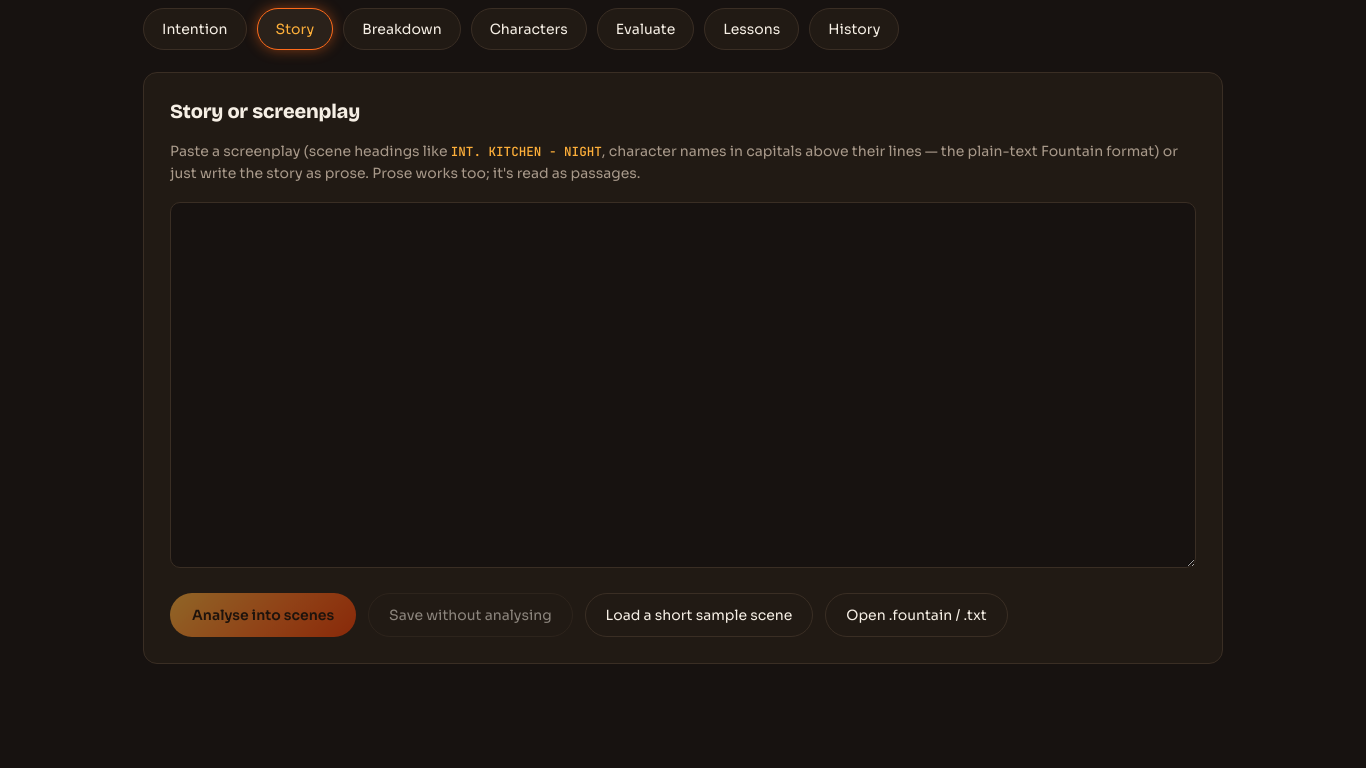
it: film workspace journey › records a lesson and shows it on the matching scene
This screenshot has width=1366, height=768.
Earlier steps of the test are not shown.
(page scrolled)
Click the button "Load a short sample scene": (699, 615) [585, 593, 813, 637]
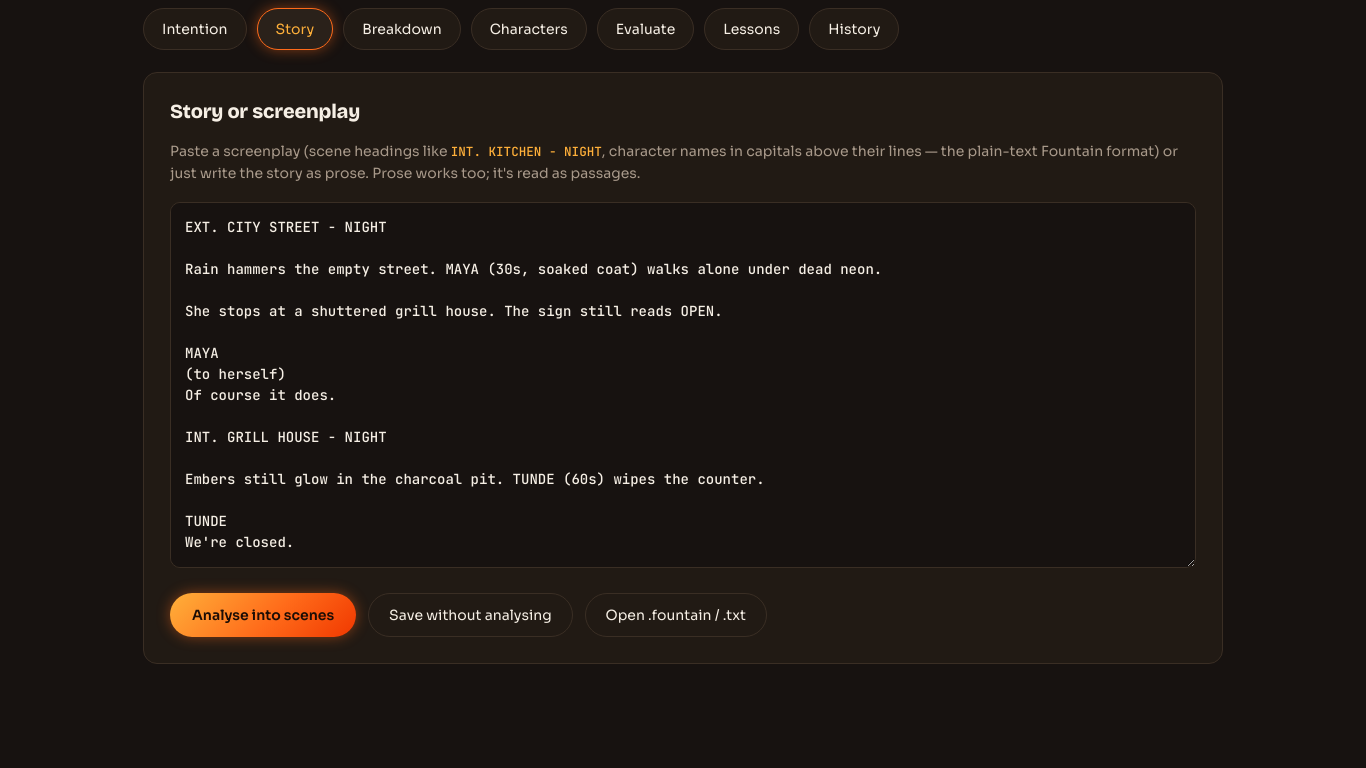
Click the button "Analyse into scenes": (263, 615) [170, 593, 356, 637]
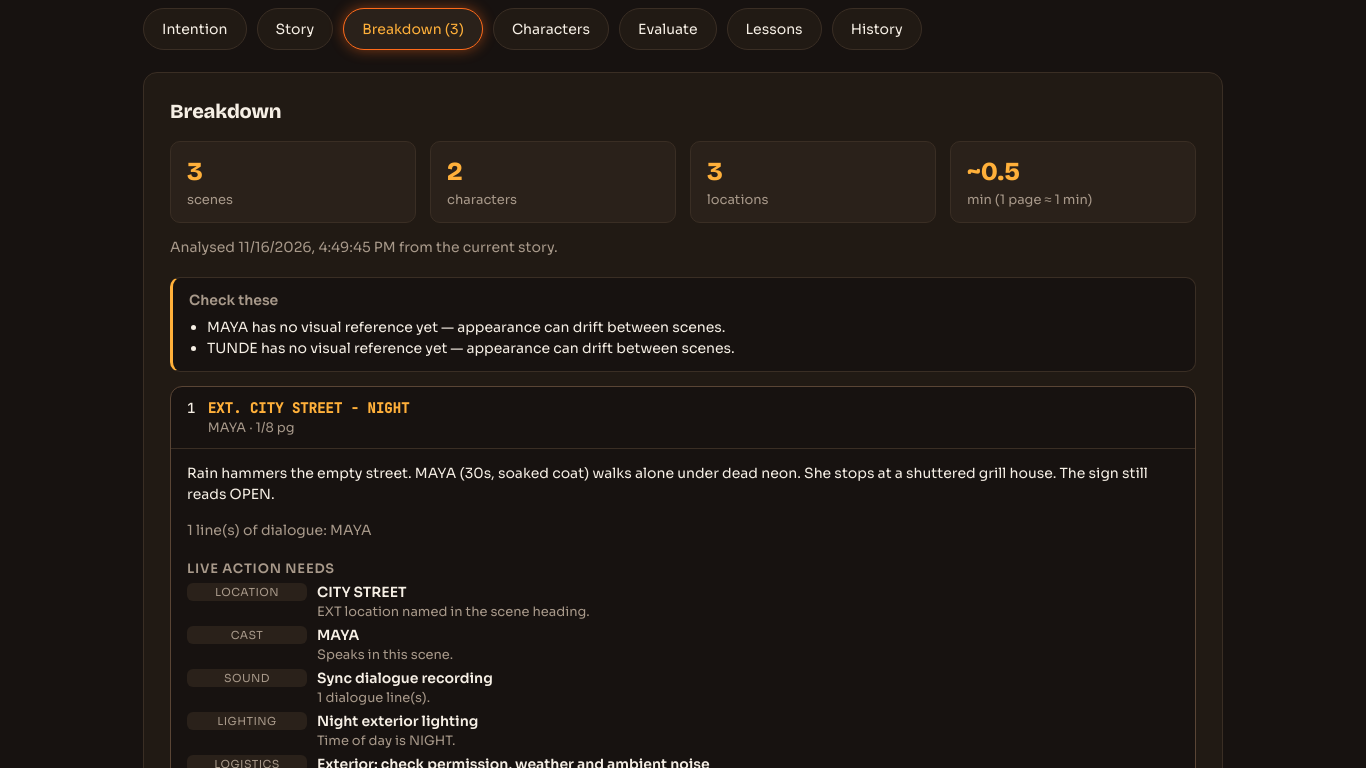
Click the tab "Lessons": (774, 29) [727, 8, 822, 50]
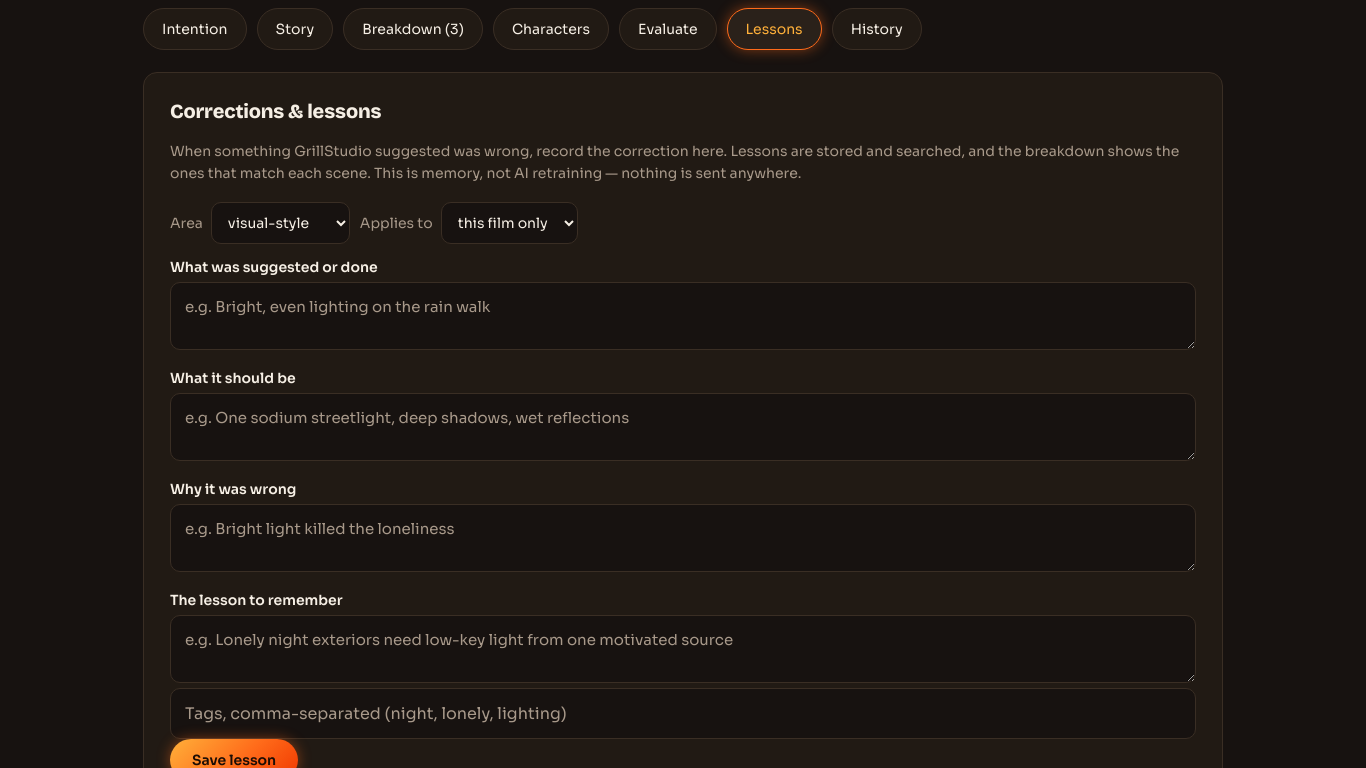
In the text box labelled "What it should be": (683, 427) [170, 393, 1196, 461], type "Single sodium streetlight, deep shadow"
Replace the text in the text box labelled "The lesson to remember" with "Lonely night street scenes need low-key light": (683, 649) [170, 615, 1196, 683]
In the field labelled "Tags": (683, 714) [170, 688, 1196, 739], type "night, street"
(page scrolled)
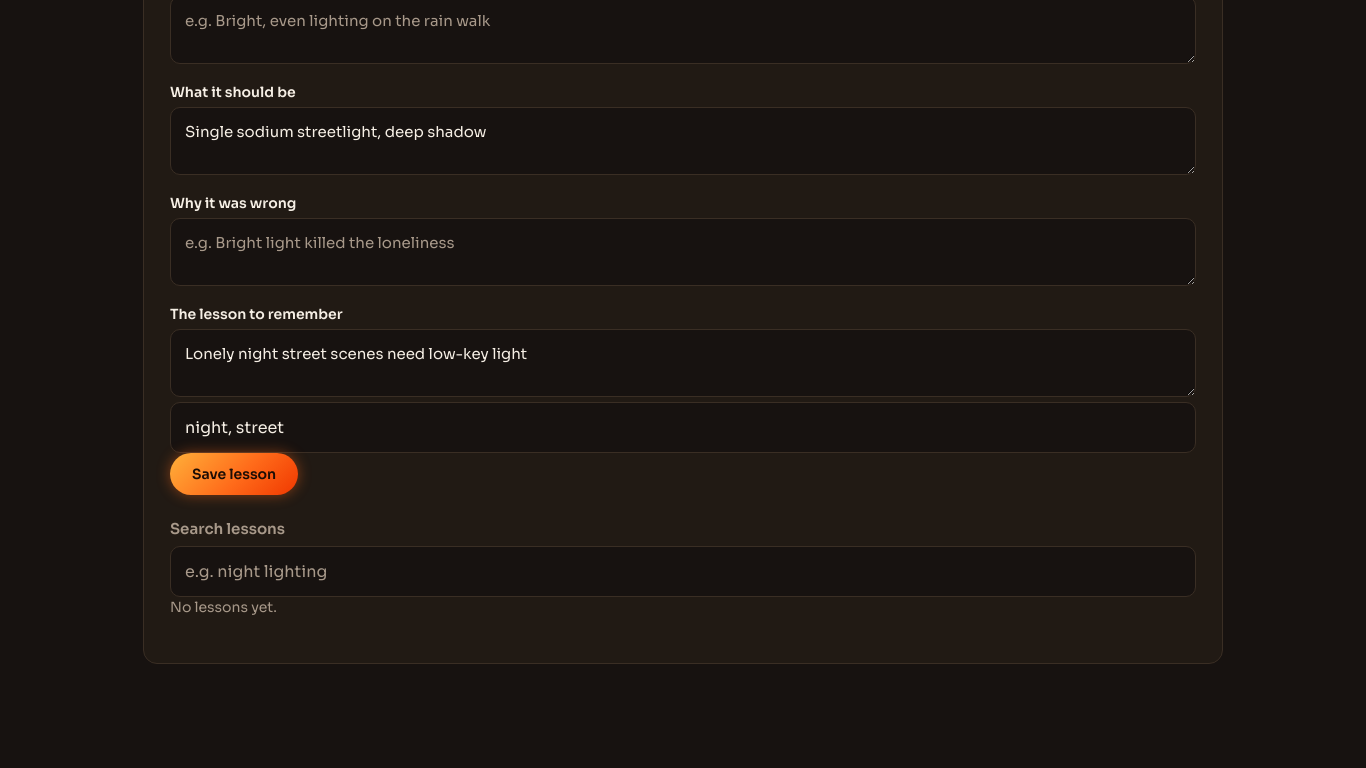
Click the button "Save lesson": (234, 474) [170, 453, 298, 495]
(page scrolled)
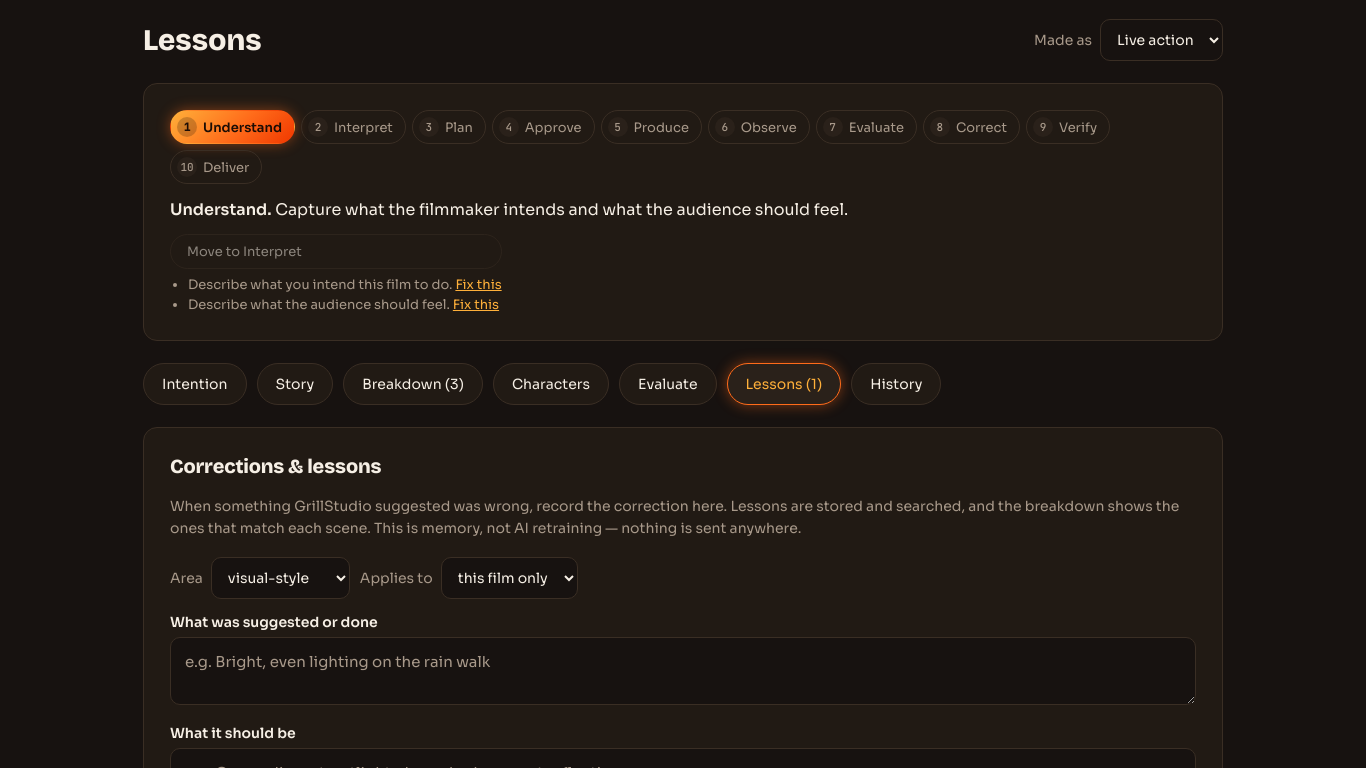
Click the tab "Breakdown (3)": (413, 384) [343, 363, 483, 405]
(page scrolled)
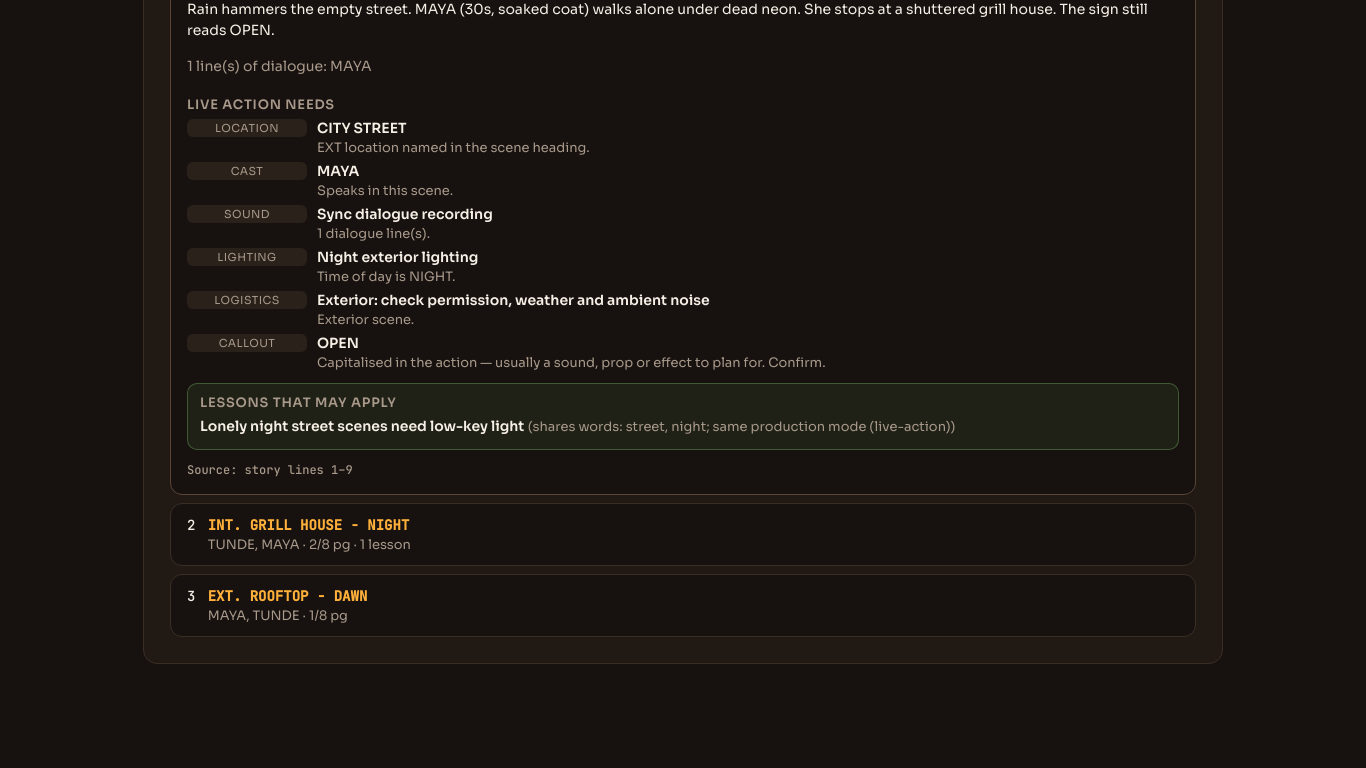
Result: the heading "Lessons that may apply" is shown at [200, 394, 396, 411]
